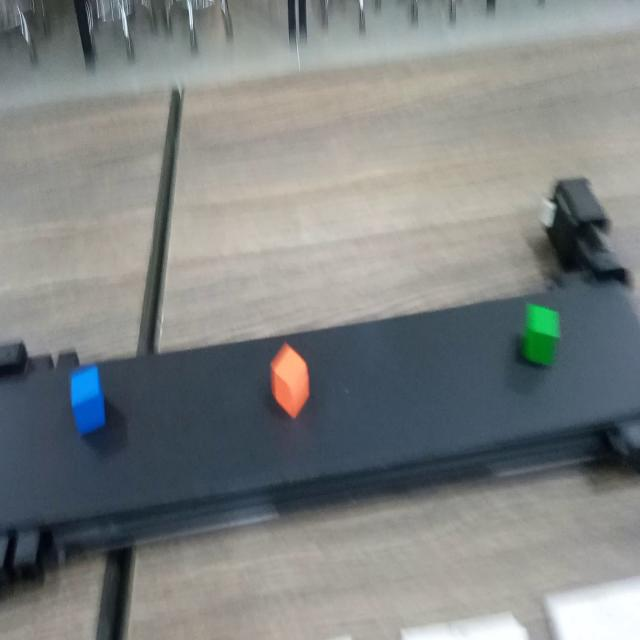cube: (513, 291, 569, 370), (64, 353, 111, 436)
